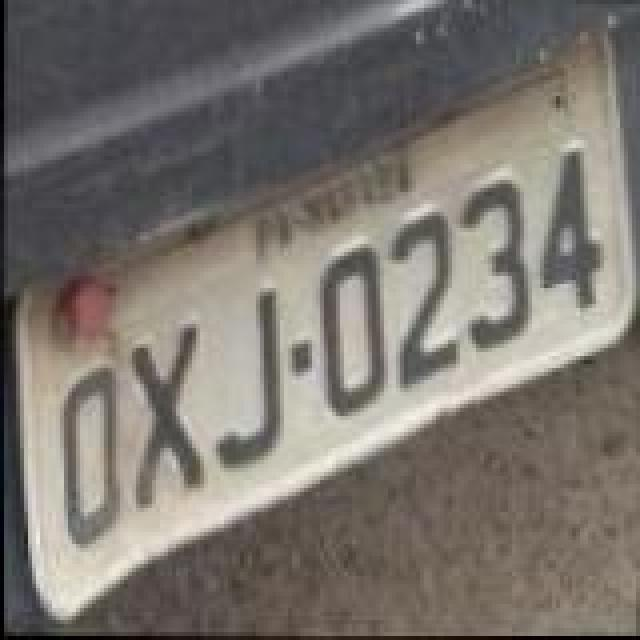2: (388, 206, 464, 394)
3: (460, 180, 536, 360)
4: (538, 138, 606, 310)
J: (210, 286, 286, 474)
O: (316, 242, 392, 426), (54, 368, 122, 552)
X: (124, 320, 212, 516)
